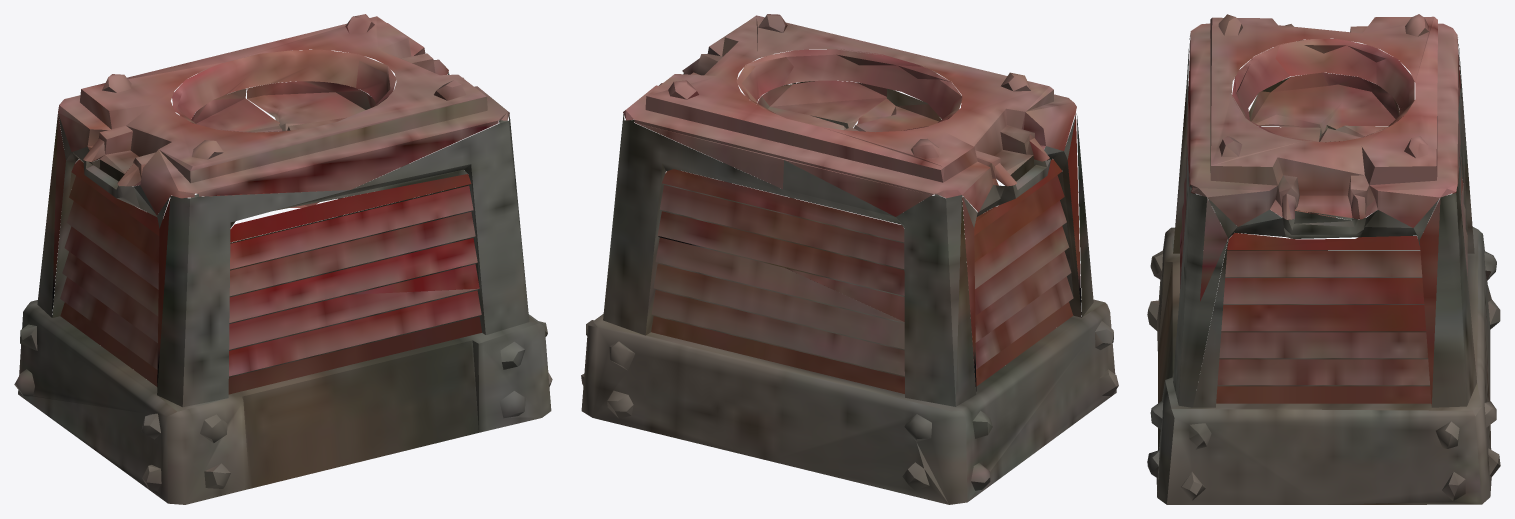
The model's file is passive-provider-chest.glb.
The picture shows the model from 3 angles, left to right: view 1: azimuth 30°, elevation 25°; view 2: azimuth 150°, elevation 25°; view 3: azimuth 270°, elevation 25°; orthographic projection. The views are drawn at different scales.
Parts seen in each view (by area): view 1: body, anim_hatch_e, anim_hatch_w; view 2: body, anim_hatch_e, anim_hatch_w; view 3: body, anim_hatch_w, anim_hatch_e.
Part boxes in pixels (box(x1,y1,x2,y2)): body: box(14, 14, 552, 504); anim_hatch_e: box(247, 81, 375, 131); anim_hatch_w: box(191, 88, 282, 132); body: box(581, 14, 1118, 504); anim_hatch_e: box(757, 80, 886, 129); anim_hatch_w: box(844, 88, 941, 132); body: box(1147, 14, 1500, 504); anim_hatch_w: box(1249, 72, 1399, 134); anim_hatch_e: box(1262, 125, 1388, 142).
Bounding box in the file's own units: 1.01 × 0.7617 × 0.7356.
Materials: 1 (1 with a texture image).
